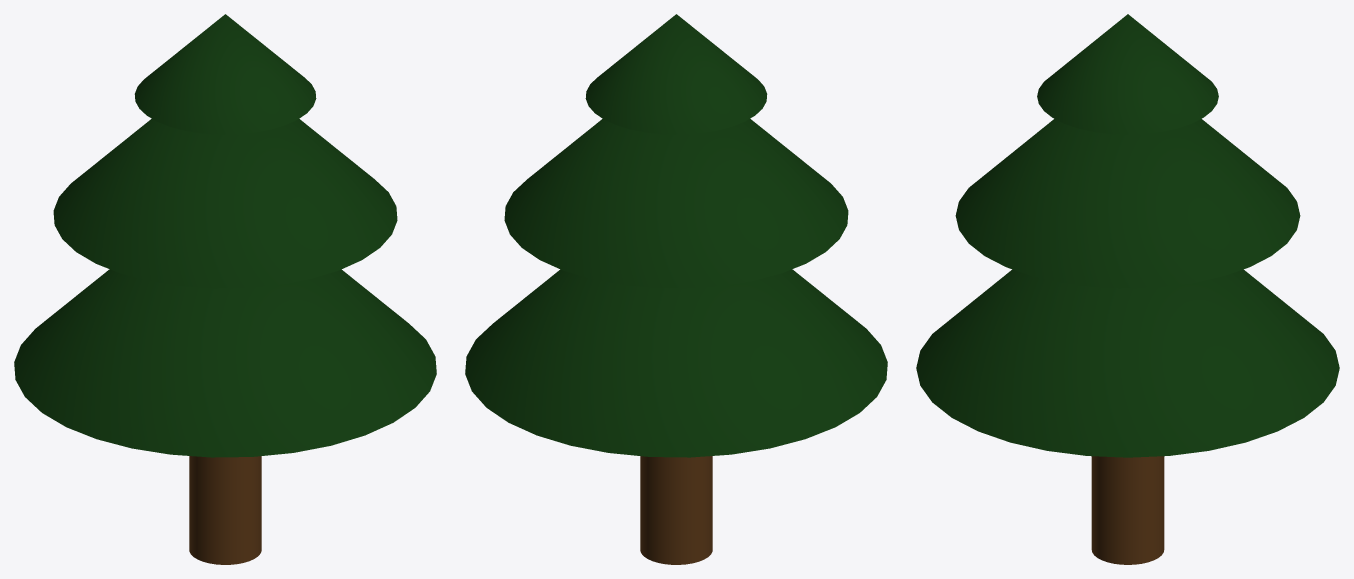
Rendered from Tree.fbx.
3 views of the same model, side by side, from view 1: azimuth 30°, elevation 25°; view 2: azimuth 150°, elevation 25°; view 3: azimuth 270°, elevation 25° (orthographic).
Parts seen in each view (by area): view 1: Leaves, Trunk; view 2: Leaves, Trunk; view 3: Leaves, Trunk.
Part boxes in pixels (left/top/right/bottom): Leaves: left=14, top=14, right=436, bottom=457; Trunk: left=189, top=456, right=261, bottom=564; Leaves: left=465, top=14, right=887, bottom=457; Trunk: left=640, top=456, right=712, bottom=564; Leaves: left=916, top=14, right=1339, bottom=457; Trunk: left=1091, top=456, right=1164, bottom=564.
Size of the model in its own units: 1165 by 1165 by 1625.
